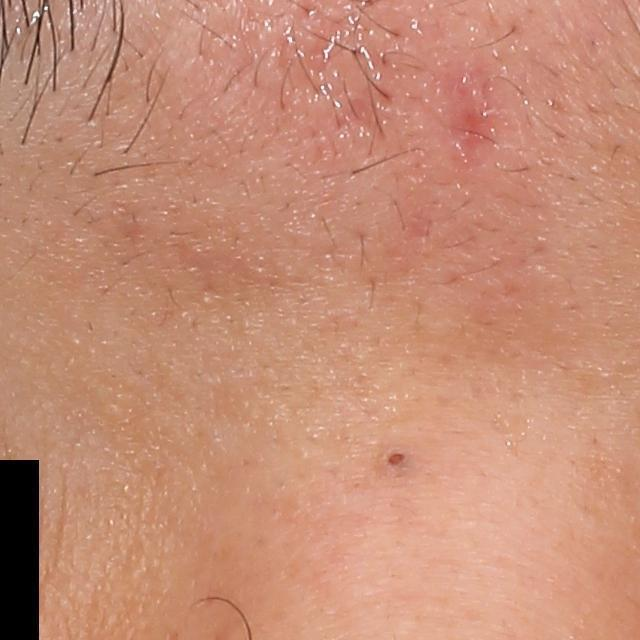comedo: (380, 442, 411, 473)
